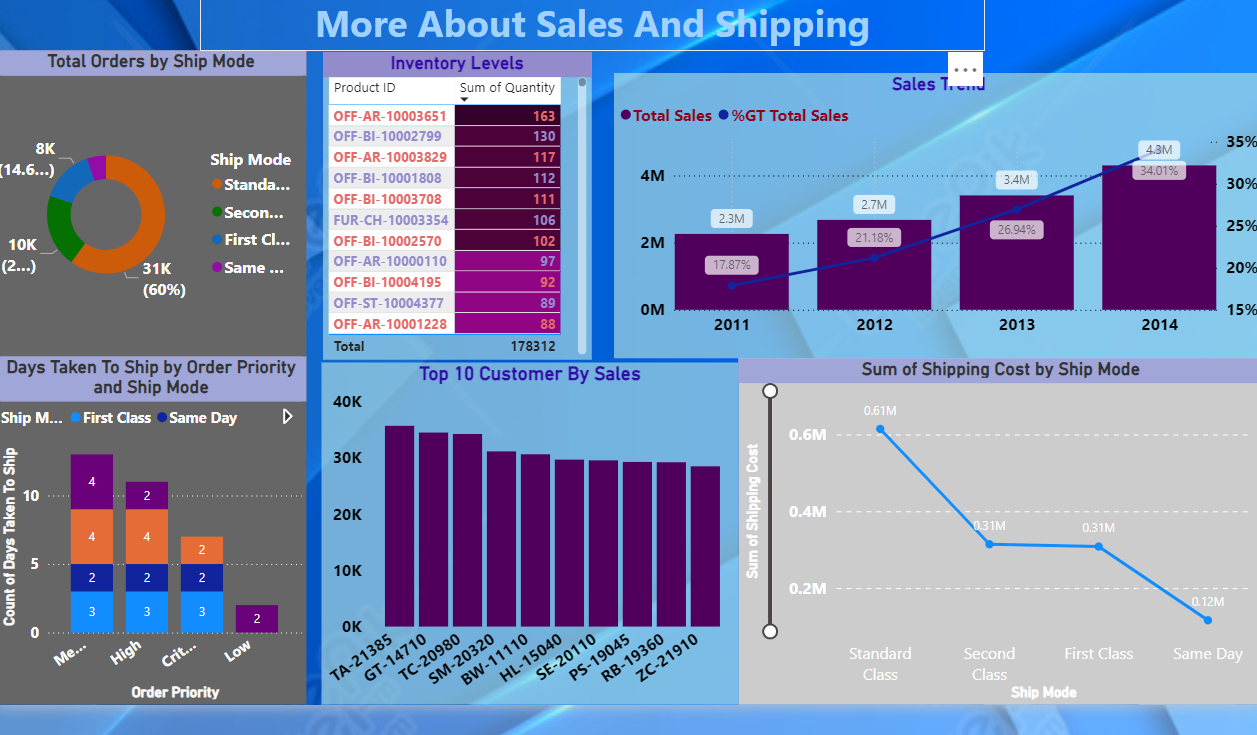

This screenshot's page, from the dashboard's own definition file:
{"tool":"powerbi","page":{"name":"Sales And Shipping","canvas":[1280,720],"ordinal":2},"visuals":[{"type":"lineChart","fields":{"Category":["Orders.Ship Mode"],"Y":["Sum(Orders.Shipping Cost)"]},"box":[749.5,369.5,530,349.8],"z":2000},{"type":"donutChart","fields":{"Category":["Orders.Ship Mode"],"Y":["Orders.Total Orders"]},"box":[0,59.1,313.4,310.4],"z":3000},{"type":"columnChart","title":"Days Taken To Ship by Order Priority and Ship Mode","fields":{"Category":["Orders.Order Priority"],"Series":["Orders.Ship Mode"],"Y":["Count(Orders.Days Taken To Ship)"]},"box":[0,368,313.4,351.3],"z":4000},{"type":"columnChart","title":"Top 10 Customer By Sales","fields":{"Category":["Orders.Customer ID"],"Y":["Sum(Orders.Sales)"]},"box":[328.6,374,420.9,345.2],"z":5000},{"type":"tableEx","title":"Inventory Levels","fields":{"Values":["Orders.Product ID","Sum(Orders.Quantity)"]},"box":[330.1,60.6,271,310.4],"z":6000},{"type":"lineStackedColumnComboChart","title":"Sales Trend","fields":{"Category":["Orders.Year"],"Y":["Orders.Total Sales"],"Y2":["Divide(Orders.Total Sales, ScopedEval(Orders.Total Sales, []))"]},"box":[623.9,81.8,655.7,287.7],"z":7000},{"type":"textbox","box":[205.5,0,792.3,59.5],"z":8000}]}

Visuals, with their boxes on the page's 1280x720 design canvas (x1, y1, x2, y2). These are canvas units, not pixel positions in the 1257x735 screenshot, which may show the page scaled, cropped or inside an application window:
lineChart - Orders.Ship Mode x Sum(Orders.Shipping Cost): [left=750, top=370, right=1280, bottom=719]
donutChart - Orders.Ship Mode x Orders.Total Orders: [left=0, top=59, right=313, bottom=370]
"Days Taken To Ship by Order Priority and Ship Mode" columnChart: [left=0, top=368, right=313, bottom=719]
"Top 10 Customer By Sales" columnChart: [left=329, top=374, right=750, bottom=719]
"Inventory Levels" tableEx: [left=330, top=61, right=601, bottom=371]
"Sales Trend" lineStackedColumnComboChart: [left=624, top=82, right=1280, bottom=370]
textbox: [left=206, top=0, right=998, bottom=60]
